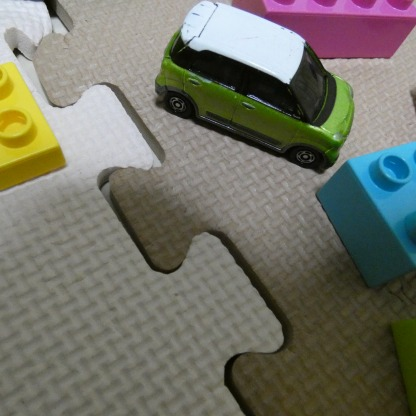car: (160, 2, 357, 167)
